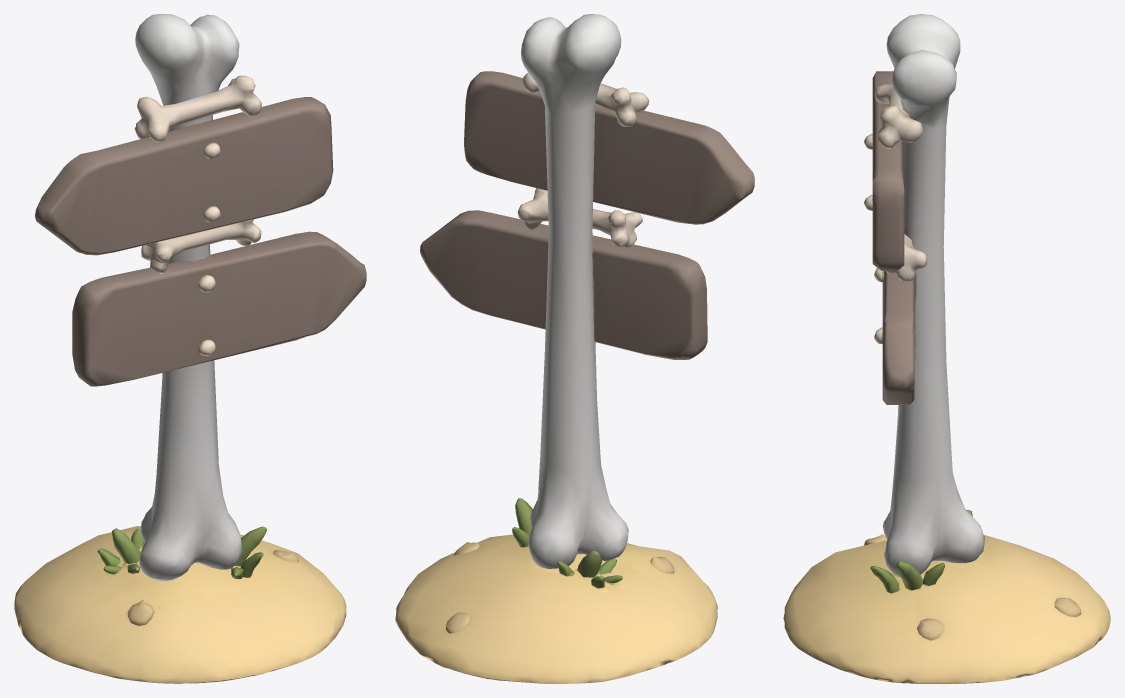
Rendered from bone-signpost.glb.
The picture shows the model from 3 angles, left to right: view 1: azimuth 30°, elevation 25°; view 2: azimuth 150°, elevation 25°; view 3: azimuth 270°, elevation 25°; orthographic projection. The views are drawn at different scales.
Visible parts, largest first — view 1: Bone Signpost; view 2: Bone Signpost; view 3: Bone Signpost.
Boxes of the visible parts, x1,y1,x2,y2 form: Bone Signpost: [14, 14, 366, 683]; Bone Signpost: [395, 14, 754, 683]; Bone Signpost: [783, 14, 1110, 683].
Bounding box in the file's own units: 0.5684 × 0.998 × 0.502.
Materials: 1 (1 with a texture image).
